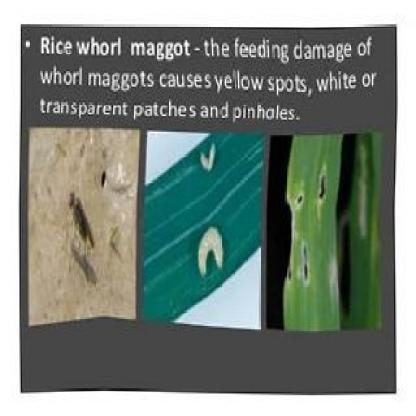whorl-maggot: (194, 221, 230, 278), (198, 140, 220, 174)
